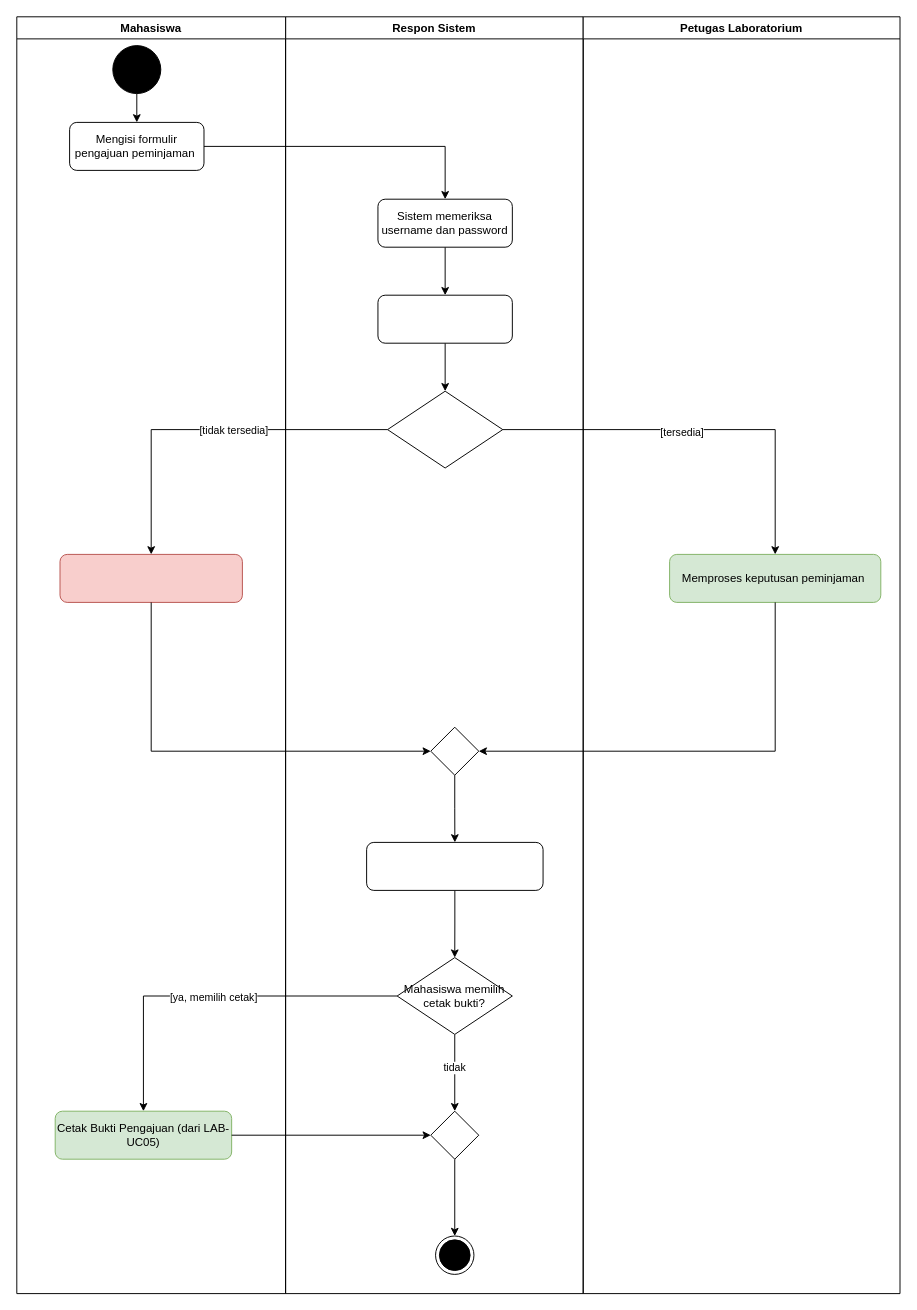
Image size: 917x1310. Some labels were removed from this diagram. Here are the shapes that lost their labels. From the top down, the centre of each, then its label:
the point at 444,318: Periksa Ketersediaan (dari LAB-UC04)
the point at 445,429: Peralatan tersedia
the point at 150,577: Menerima pemberitahuan pengajuan tidak terpenuhi
the point at 454,865: Mencatat hasil akhir pengajuan
